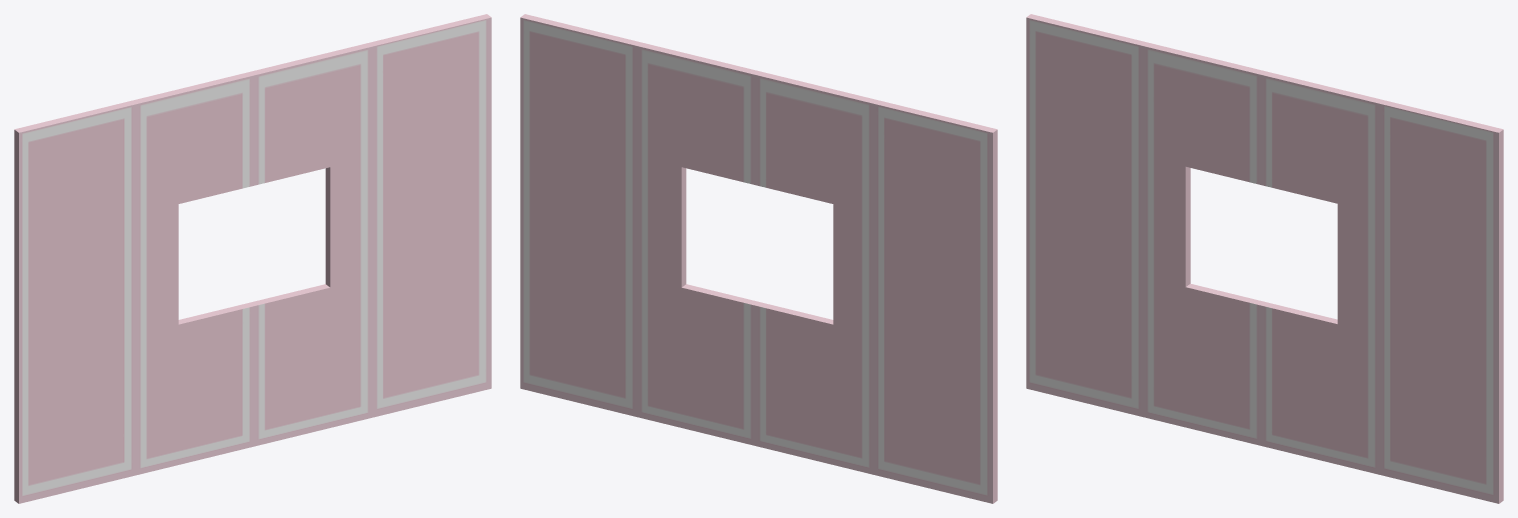
The model's file is Wall_Pink_Window.fbx.
The picture shows the model from 3 angles, left to right: view 1: azimuth 30°, elevation 25°; view 2: azimuth 150°, elevation 25°; view 3: azimuth 330°, elevation 25°; orthographic projection.
Visible parts, largest first — view 1: Wall_Pink_Window; view 2: Wall_Pink_Window; view 3: Wall_Pink_Window.
Boxes of the visible parts, left/top/right/bottom form: Wall_Pink_Window: left=14, top=14, right=491, bottom=503; Wall_Pink_Window: left=520, top=14, right=997, bottom=503; Wall_Pink_Window: left=1026, top=14, right=1503, bottom=503.
Size of the model in its own units: 400 by 300 by 7.
